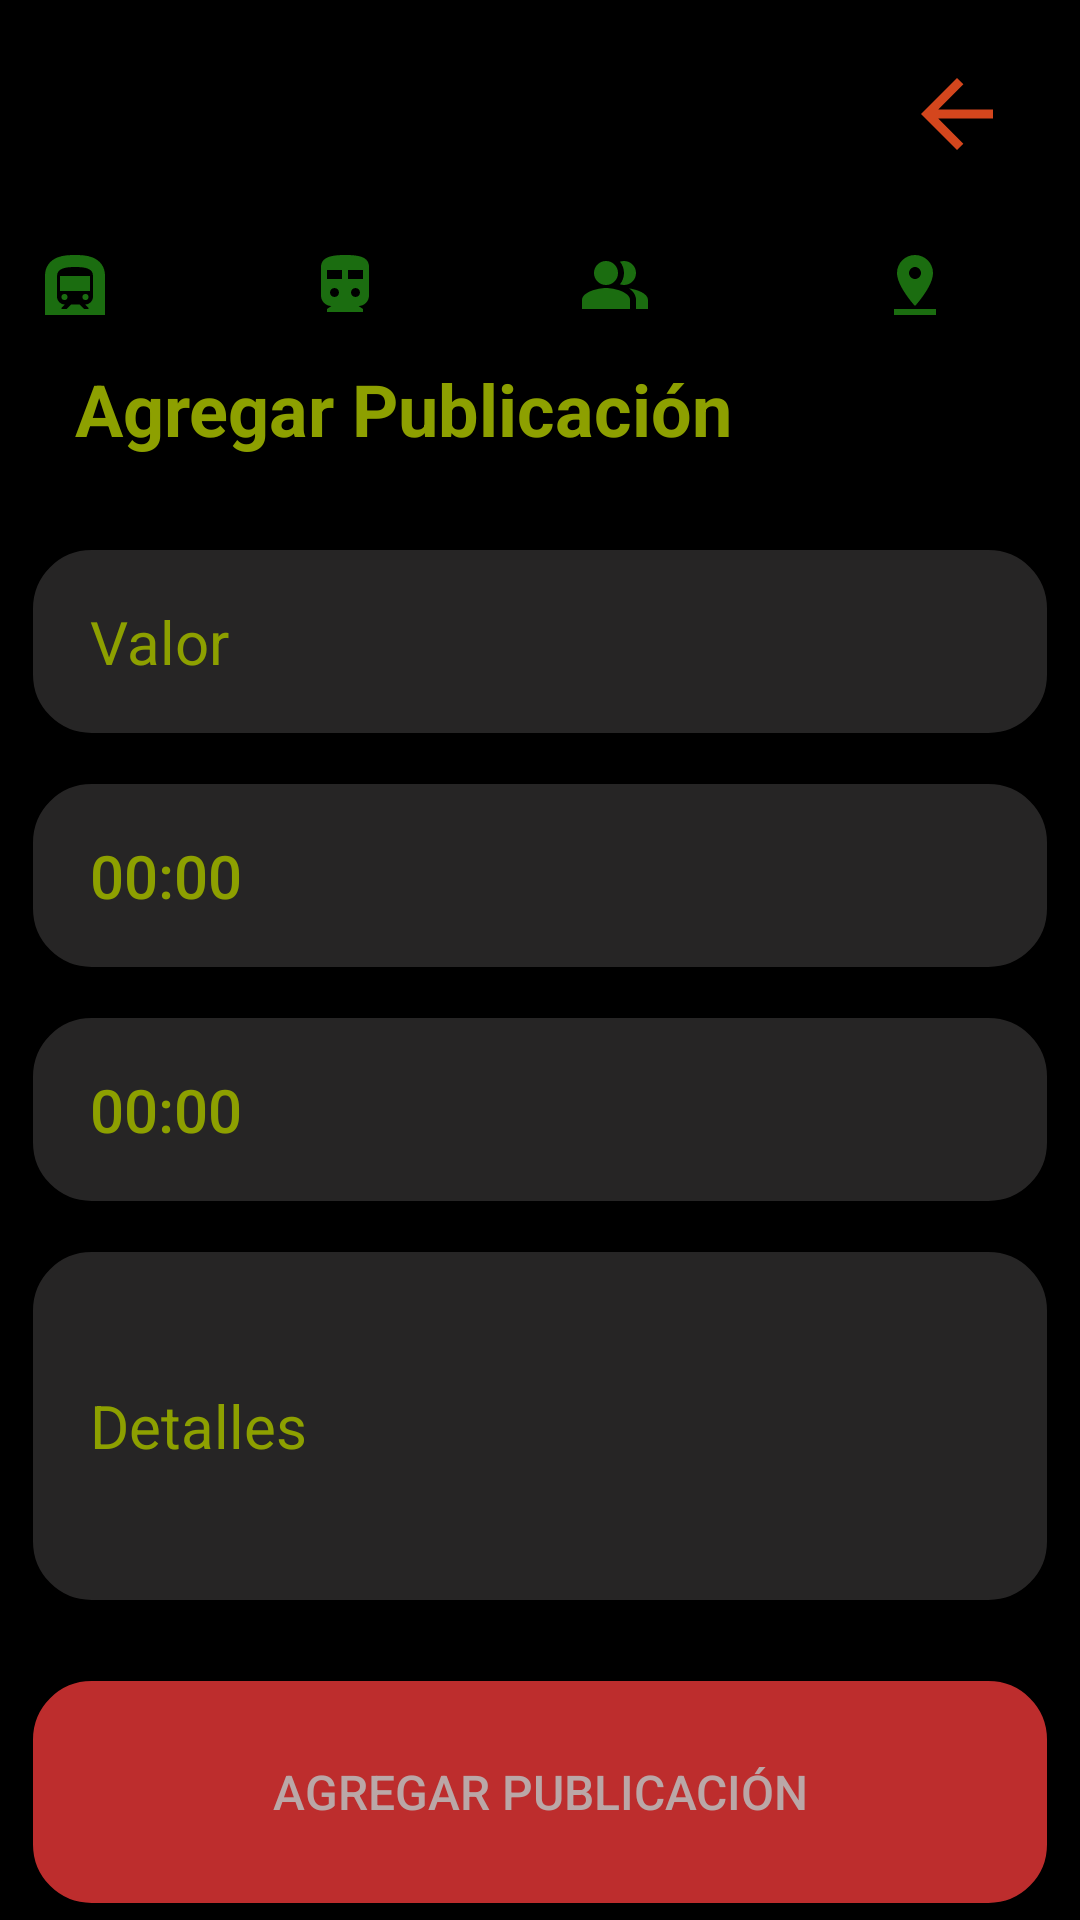

Named icons in this screenshot (1080px x 1920px) and their centers, point (x, y):
back flecha: point (957, 114)
paradaicono: point (75, 285)
puntoicono: point (915, 285)
usericono: point (615, 285)
